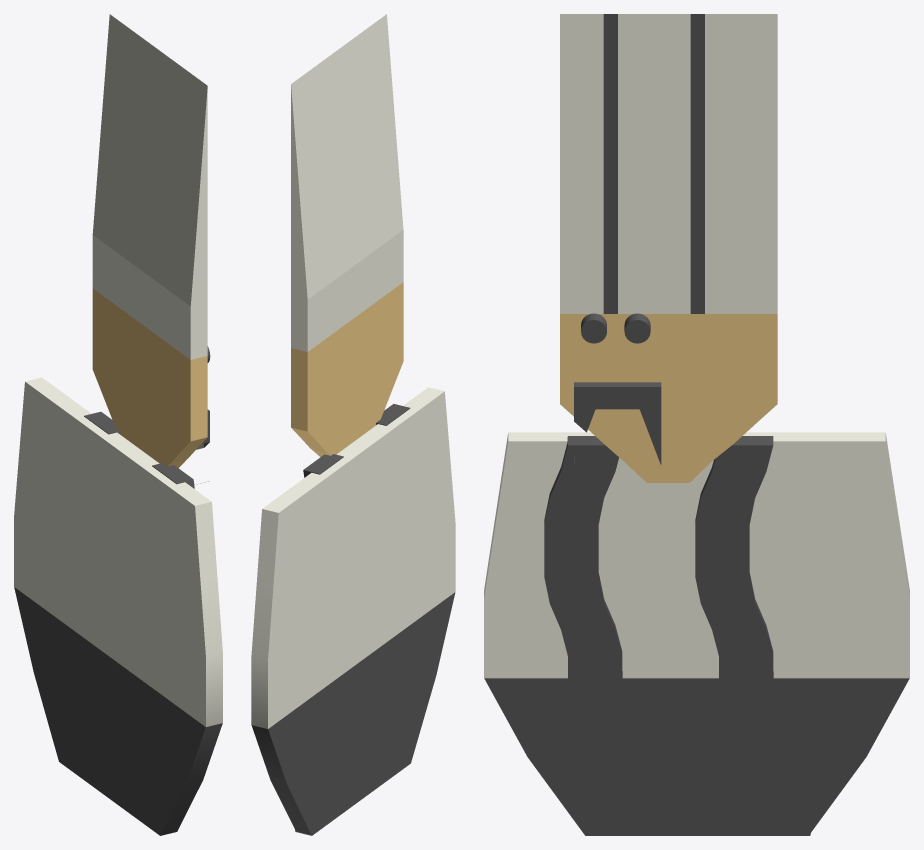
Rendered from Left.fbx.
3 views of the same model, side by side, from view 1: azimuth 30°, elevation 25°; view 2: azimuth 150°, elevation 25°; view 3: azimuth 270°, elevation 25° (orthographic). The views are drawn at different scales.
Visible parts, largest first — view 1: pCube8; view 2: pCube8; view 3: pCube8.
Boxes of the visible parts, x1,y1,x2,y2 form: pCube8: [14, 14, 222, 835]; pCube8: [251, 14, 455, 835]; pCube8: [484, 14, 909, 835].
Bounding box in the file's own units: 0.2827 × 4.22 × 1.96.
